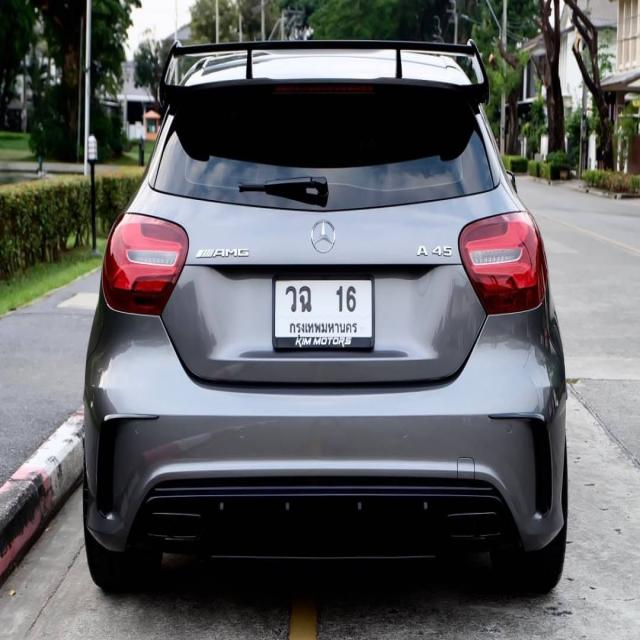license_plate: (271, 268, 376, 354)
